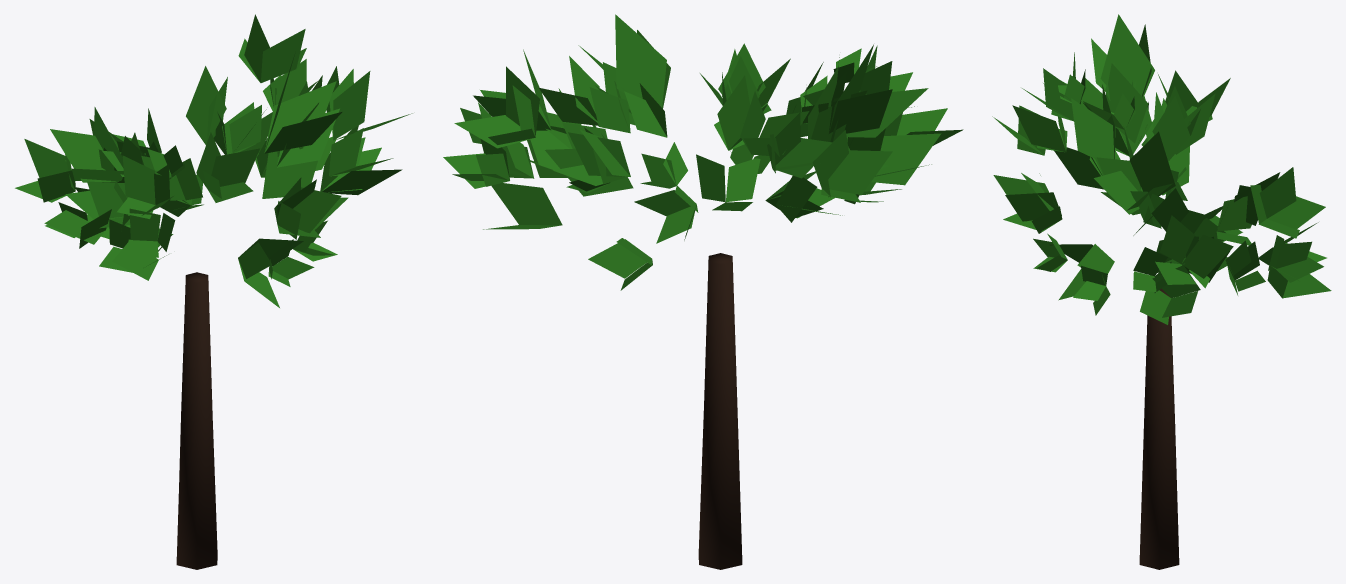
The model's file is Tree_05_C_LOD2.obj.
3 views of the same model, side by side, from view 1: azimuth 30°, elevation 25°; view 2: azimuth 150°, elevation 25°; view 3: azimuth 270°, elevation 25° (orthographic). The views are drawn at different scales.
Visible parts, largest first — view 1: Leaves, Trunk; view 2: Leaves, Trunk; view 3: Leaves, Trunk.
Part boxes in pixels (x1,y1,x2,y2): Leaves: [15, 14, 412, 307]; Trunk: [176, 272, 217, 569]; Leaves: [443, 14, 963, 290]; Trunk: [698, 253, 742, 569]; Leaves: [992, 14, 1331, 324]; Trunk: [1139, 288, 1179, 569].
Size of the model in its own units: 4.43 by 5.3 by 3.35.
